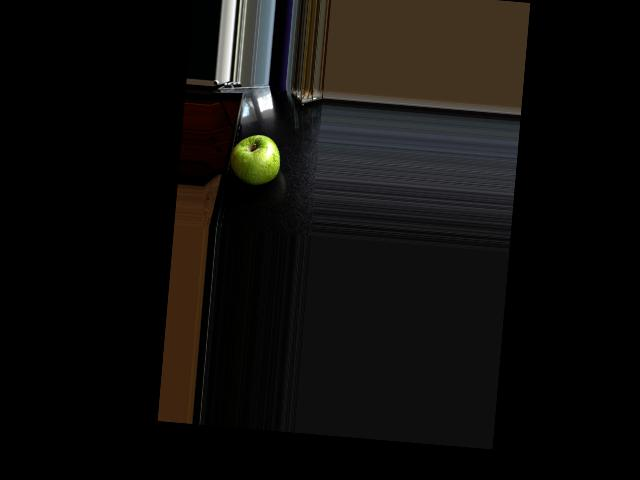apple: (227, 129, 285, 190)
